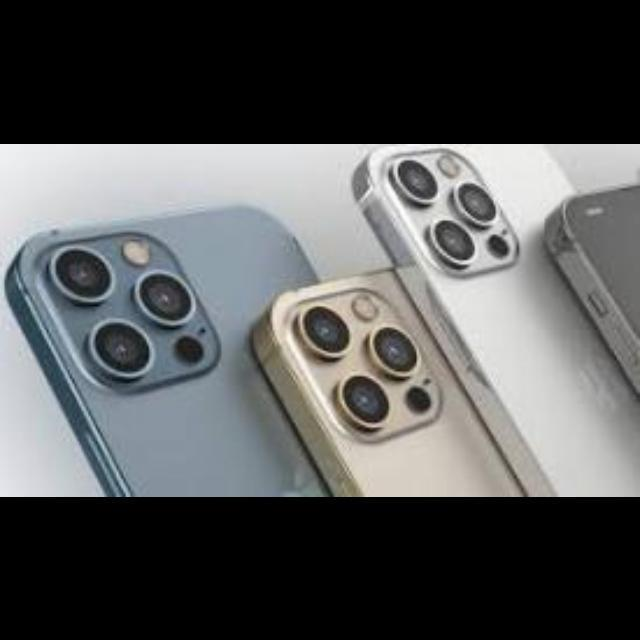phone: (9, 170, 591, 501)
